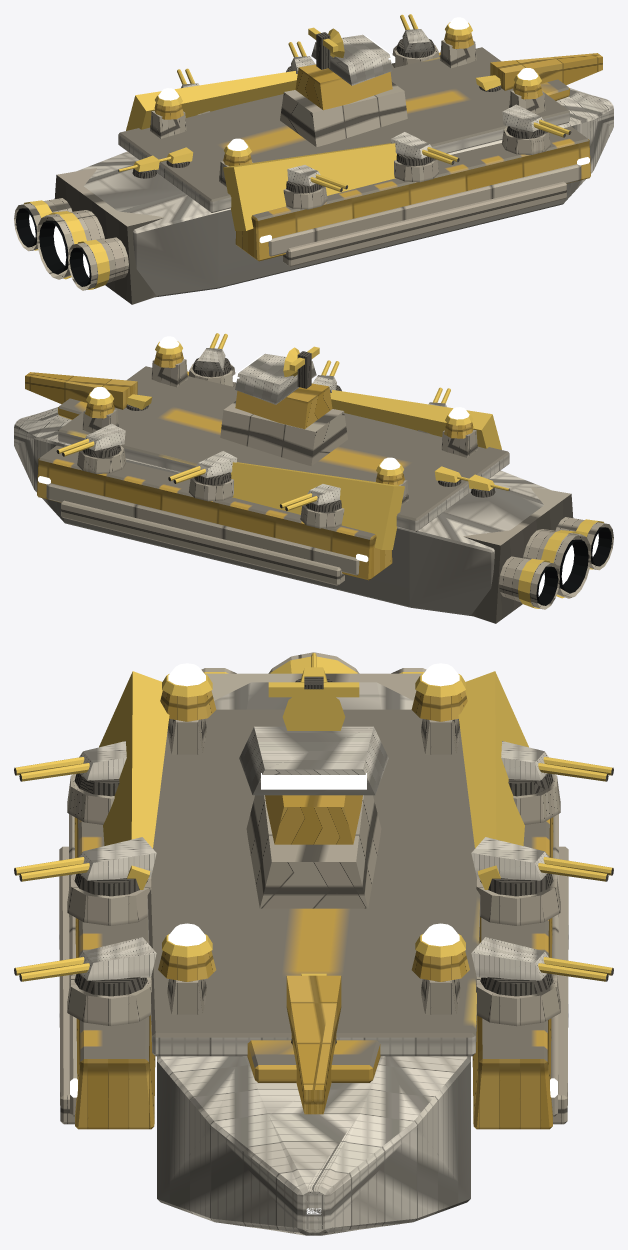
The model's file is cruiser.glb.
The picture shows the model from 3 angles, top to bottom: view 1: azimuth 30°, elevation 25°; view 2: azimuth 150°, elevation 25°; view 3: azimuth 270°, elevation 25°; orthographic projection. The views are drawn at different scales.
Visible parts, largest first — view 1: hull_body, engine_block, sensor_tower, weapon_turrets, shield_pylons; view 2: hull_body, engine_block, sensor_tower, weapon_turrets, shield_pylons; view 3: hull_body, weapon_turrets, sensor_tower, shield_pylons, engine_block.
Boxes of the visible parts, x1,y1,x2,y2 form: hull_body: (77, 47, 613, 297); engine_block: (14, 168, 164, 304); sensor_tower: (280, 27, 407, 147); weapon_turrets: (118, 14, 571, 209); shield_pylons: (150, 17, 545, 186); hull_body: (14, 366, 550, 616); engine_block: (463, 487, 613, 623); sensor_tower: (220, 346, 347, 466); weapon_turrets: (56, 333, 509, 528); shield_pylons: (82, 336, 477, 505); hull_body: (59, 671, 568, 1235); weapon_turrets: (14, 653, 613, 1044); sensor_tower: (239, 676, 388, 908); shield_pylons: (158, 663, 469, 1014); engine_block: (201, 652, 426, 700).
Bounding box in the file's own units: 42 × 13.88 × 21.28.
1 material, 1 textured.
